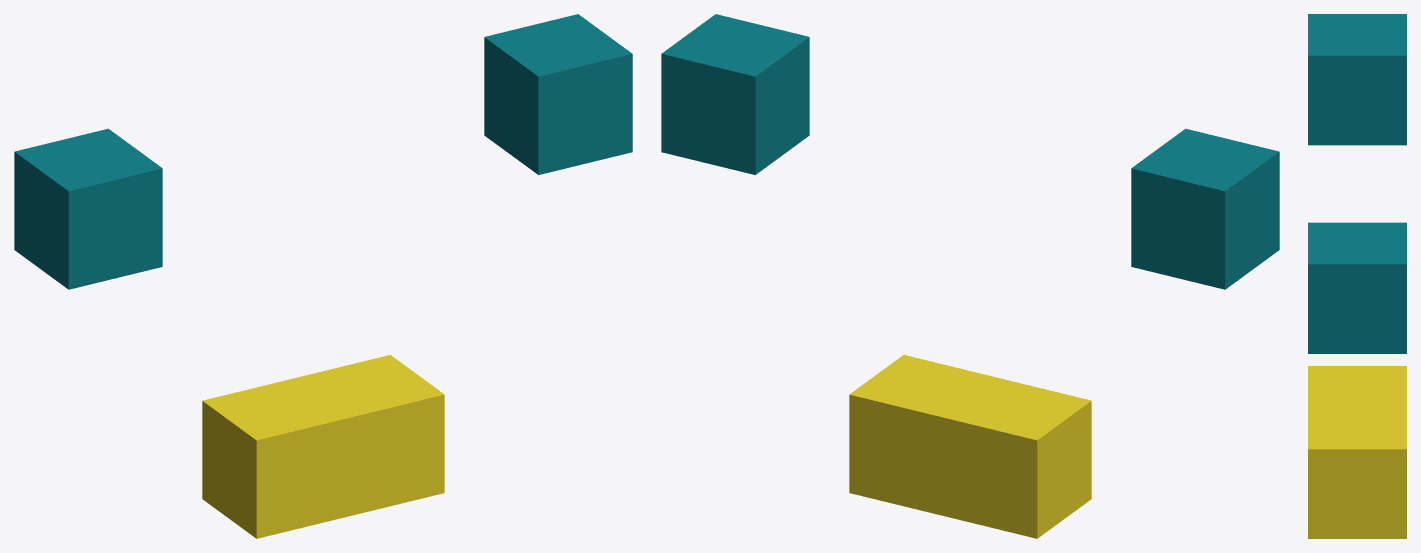
The model's file is ShamanTotem-transparent.obj.
3 renders of one model, left to right at view 1: azimuth 30°, elevation 25°; view 2: azimuth 150°, elevation 25°; view 3: azimuth 270°, elevation 25°, orthographic. The views are drawn at different scales.
Visible parts, largest first — view 1: ShamanTotem-transparent; view 2: ShamanTotem-transparent; view 3: ShamanTotem-transparent.
Part boxes in pixels (bbox=[...]): ShamanTotem-transparent: bbox=[14, 14, 632, 538]; ShamanTotem-transparent: bbox=[661, 14, 1279, 538]; ShamanTotem-transparent: bbox=[1308, 14, 1406, 538].
Bounding box in the file's own units: 6 × 4 × 1.
1 material, 1 textured.
